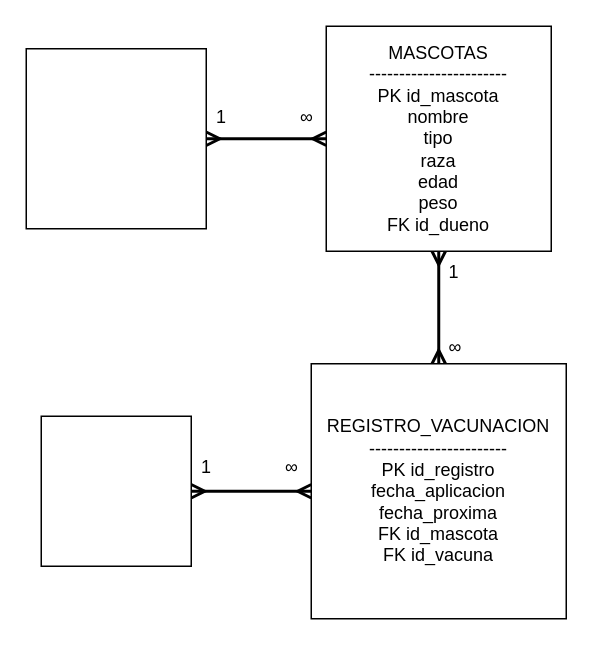
The diagram is 593 pixels wide and 645 high, and some of its shapes have lost their labels. Here are the shapes that lost their labels. From the top down, the centre of each, then its label:
the point at 115,138: DUEÑOS ----------------------- PK id_dueno nombre cedula telefono
the point at 115,490: VACUNAS ----------------------- PK id_vacuna nombre
